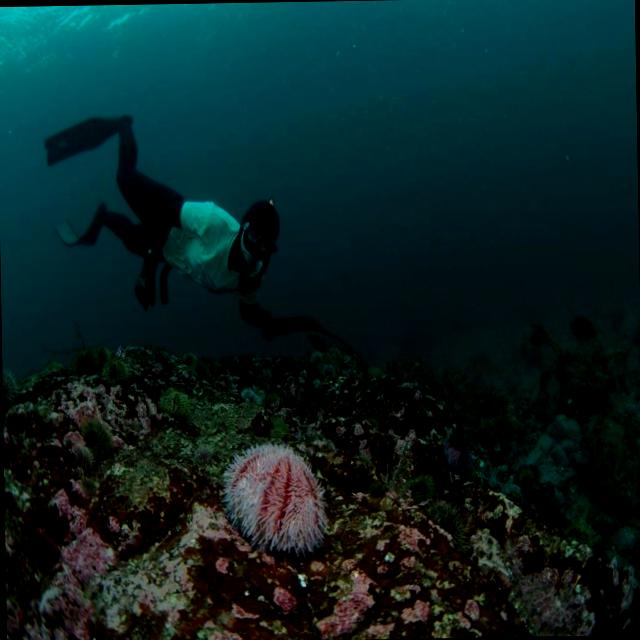Deniz Kestanesi: (218, 439, 328, 558), (442, 433, 469, 469)
